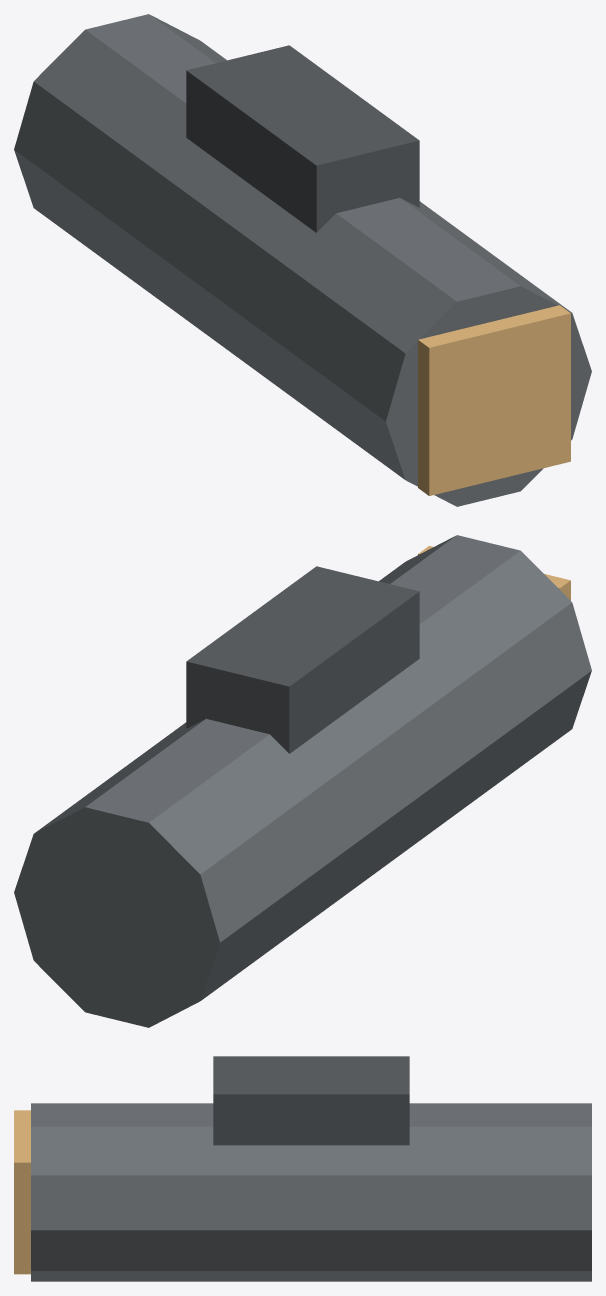
Rendered from att_flashlight.glb.
The picture shows the model from 3 angles, top to bottom: view 1: azimuth 30°, elevation 25°; view 2: azimuth 150°, elevation 25°; view 3: azimuth 270°, elevation 25°; orthographic projection. The views are drawn at different scales.
Visible parts, largest first — view 1: att_flashlight; view 2: att_flashlight; view 3: att_flashlight.
Part boxes in pixels (left/top/right/bottom): att_flashlight: left=14, top=14, right=591, bottom=506; att_flashlight: left=14, top=535, right=591, bottom=1027; att_flashlight: left=14, top=1056, right=591, bottom=1281.
Size of the model in its own units: 0.0416 by 0.0497 by 0.1339.
